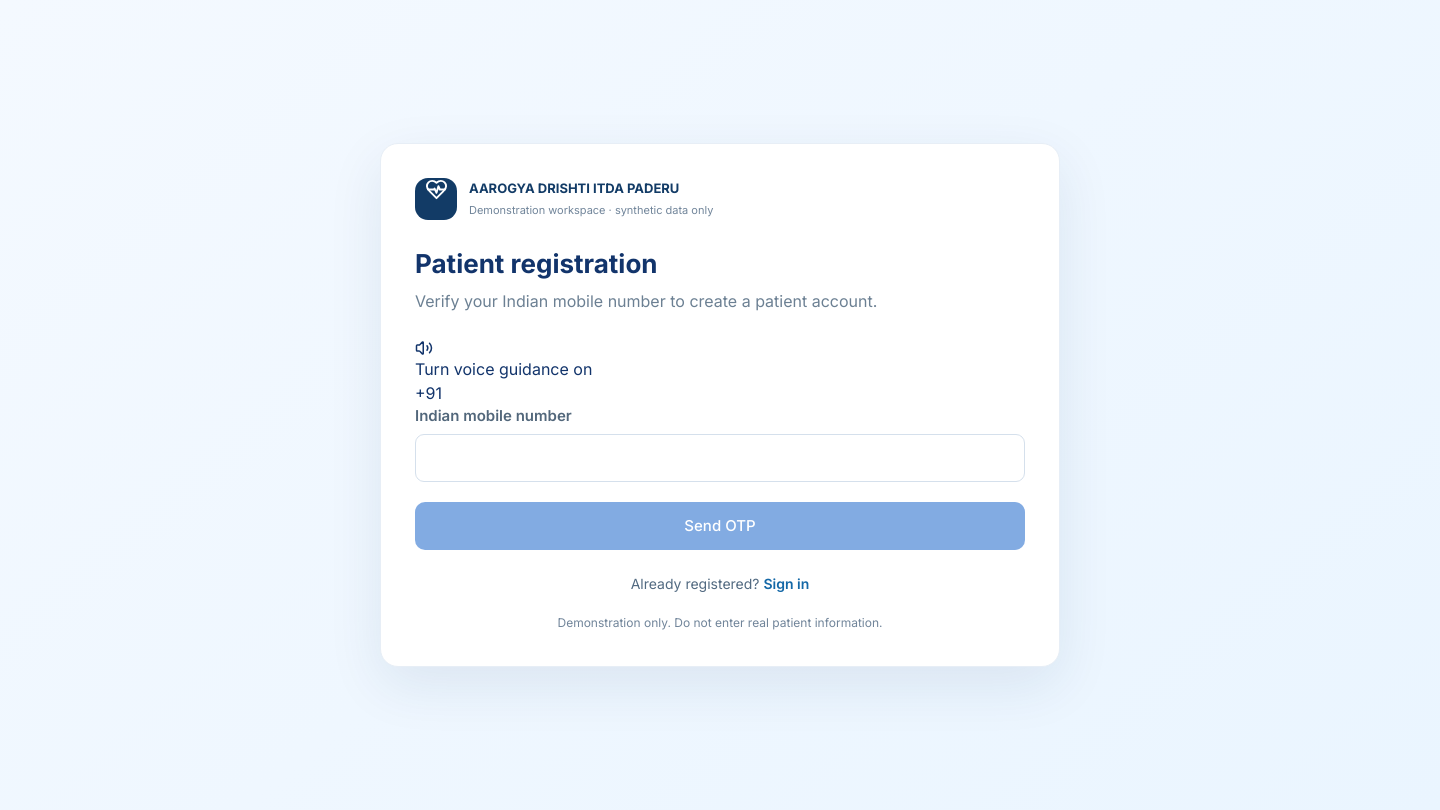
patient OTP registration › creates a patient account only after mobile OTP verification and consent
Later steps or results of the test are not shown.
In the field labelled "Indian mobile number": (720, 458) [415, 434, 1025, 482], type "+91 98765 43210"
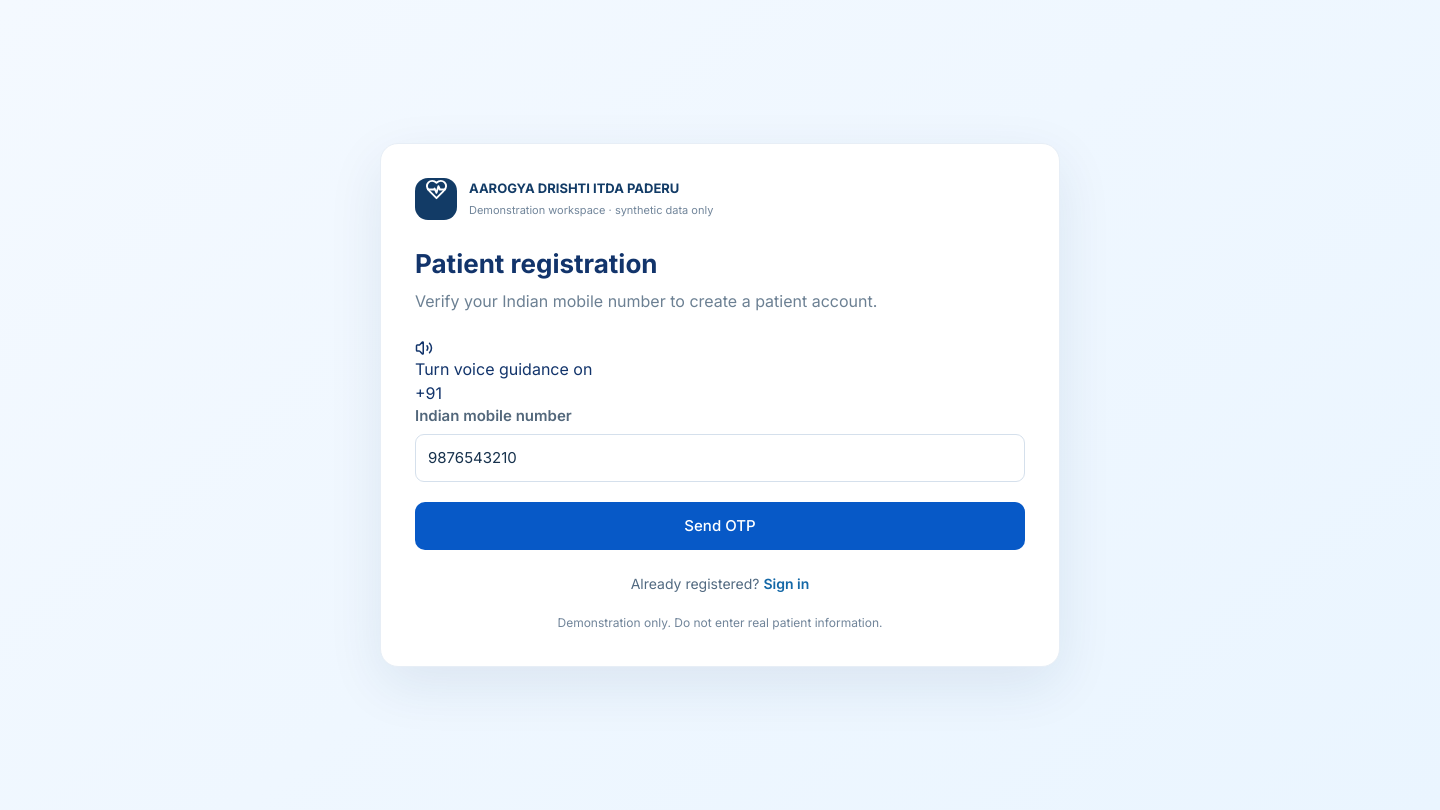
Click the button "Send OTP": (720, 526) [415, 502, 1025, 550]
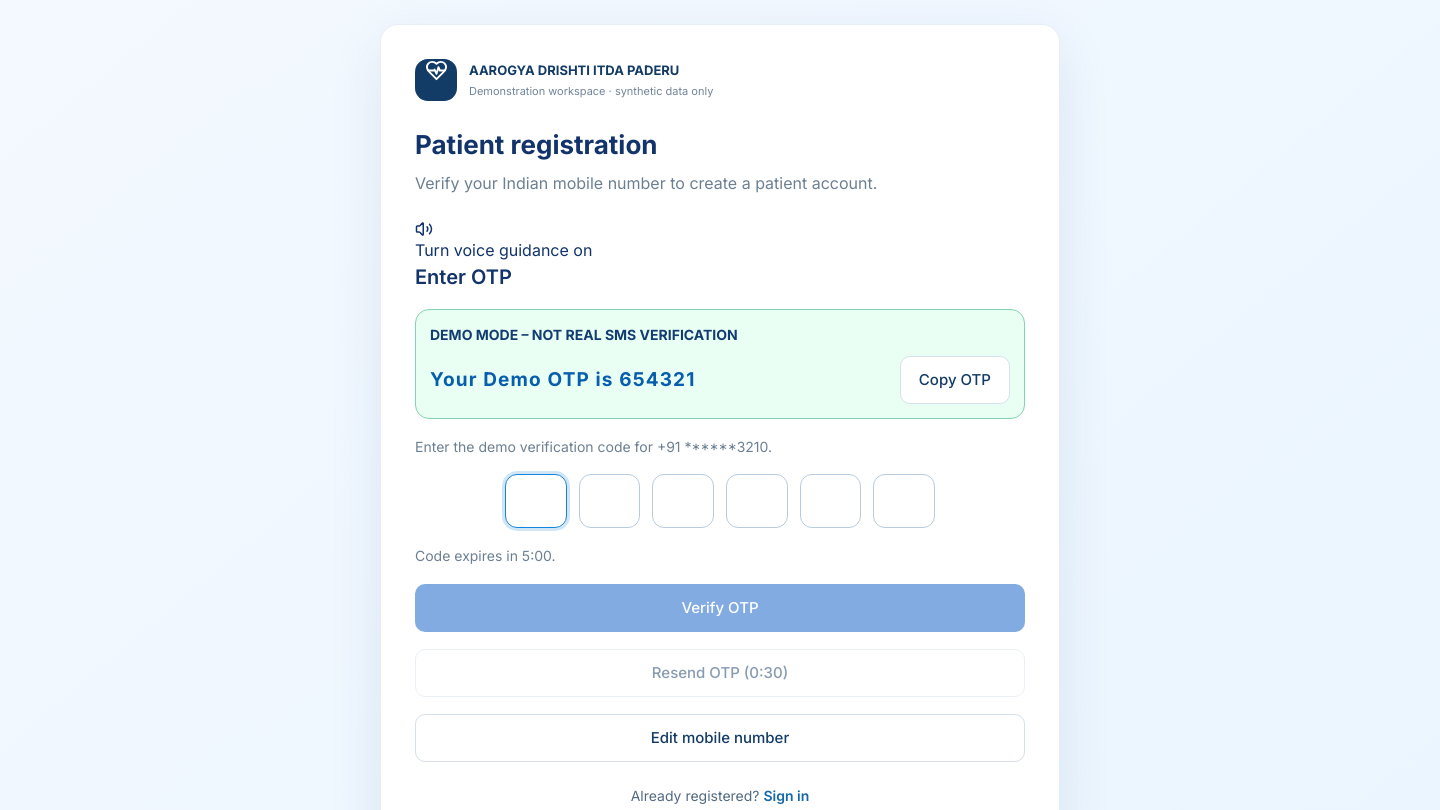
Expected: the field named "Verification code digit 1" is shown, [505, 474, 567, 528]
Expected: the heading "Enter OTP" is shown, [415, 265, 512, 289]
Expected: the text "Your Demo OTP is 654321" is shown, [430, 365, 696, 394]
Click the button "Copy OTP": (955, 380) [900, 356, 1010, 404]
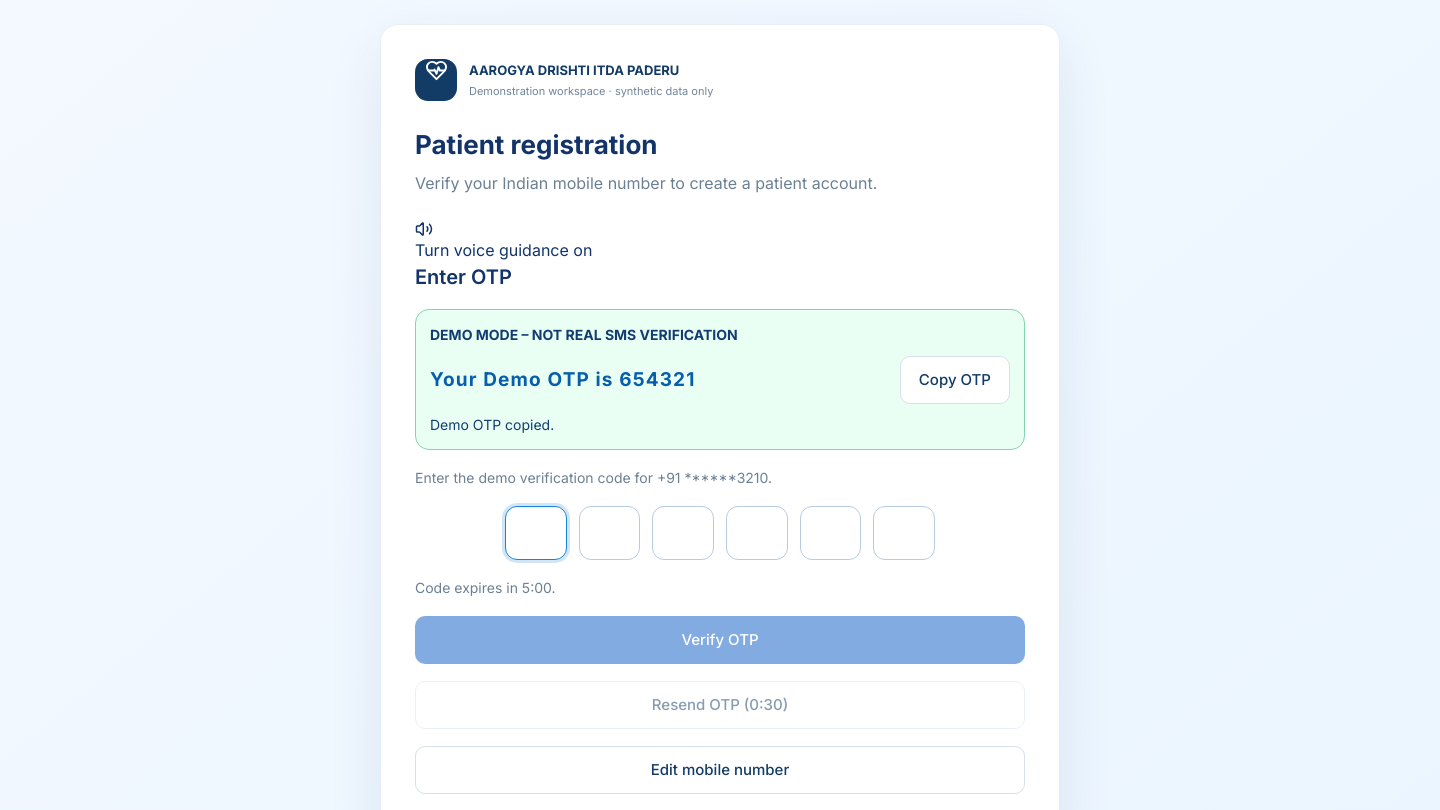
Expected: the text "Enter the demo verification code for +91 ******3210." is shown, [415, 470, 772, 486]
Expected: the text "DEMO MODE – NOT REAL SMS VERIFICATION" is shown, [430, 326, 738, 343]
Expected: the text "Demo OTP copied." is shown, [430, 416, 554, 433]
